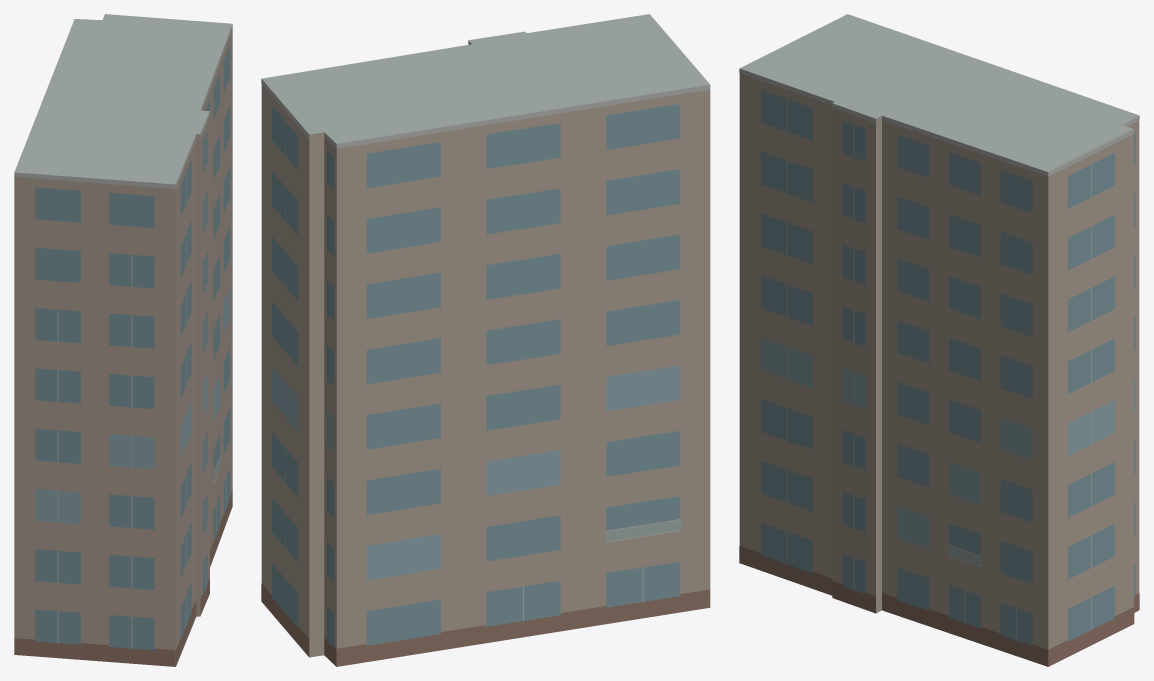
Rendered from survey-upis-32561349.glb.
3 renders of one model, left to right at view 1: azimuth 30°, elevation 25°; view 2: azimuth 150°, elevation 25°; view 3: azimuth 270°, elevation 25°, orthographic. The views are drawn at different scales.
Visible parts, largest first — view 1: survey-upis-32561349.tmp; view 2: survey-upis-32561349.tmp; view 3: survey-upis-32561349.tmp.
Part boxes in pixels (bbox=[...]): survey-upis-32561349.tmp: bbox=[14, 14, 232, 666]; survey-upis-32561349.tmp: bbox=[261, 14, 710, 666]; survey-upis-32561349.tmp: bbox=[739, 14, 1139, 666].
Bounding box in the file's own units: 17.77 × 25.9 × 18.98.
